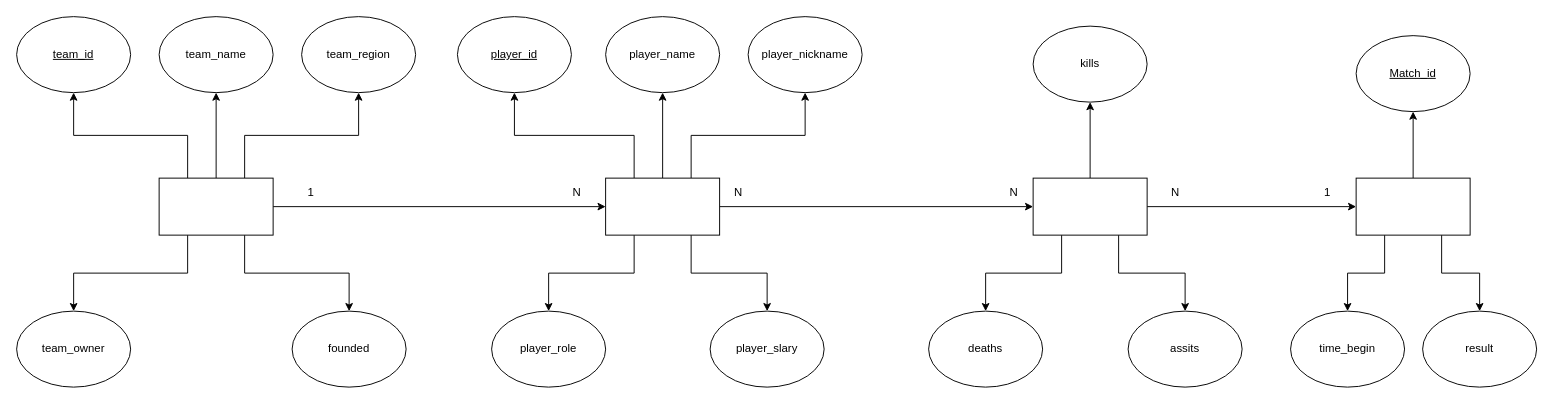
Image size: 1553x404. Some labels were removed from this diagram. The centre of each missing label's shape, as x and y in pixels:
Match-stratistic: point 1089,206
matchs: point 1412,206
players: point 662,206
Teams: point 215,206
